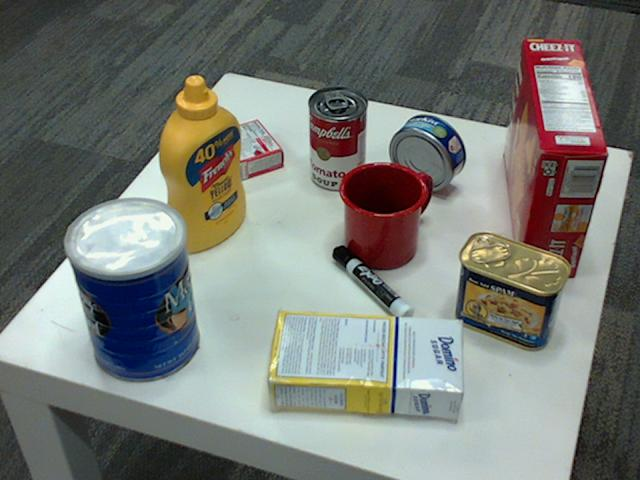cracker_box: (502, 37, 608, 275)
gelatin_box: (193, 116, 284, 184)
large_marker: (332, 246, 413, 327)
master_chef_can: (61, 198, 197, 384)
mug: (336, 160, 428, 267)
mustard_bottle: (157, 75, 246, 252)
potted_meat_can: (452, 231, 570, 350)
sugar_box: (260, 307, 461, 417)
tomato_soup_can: (307, 87, 367, 191)
tuna_fish_can: (388, 113, 464, 190)
